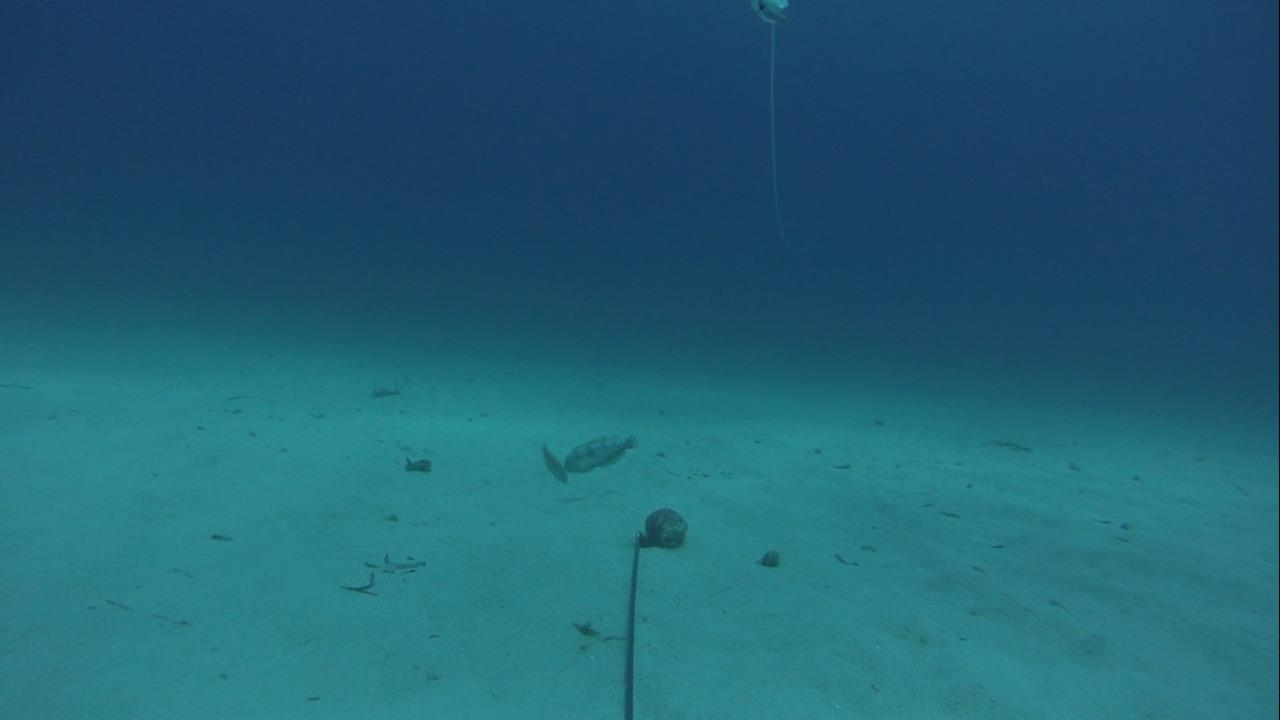raor: (558, 420, 638, 481), (528, 434, 576, 488)
